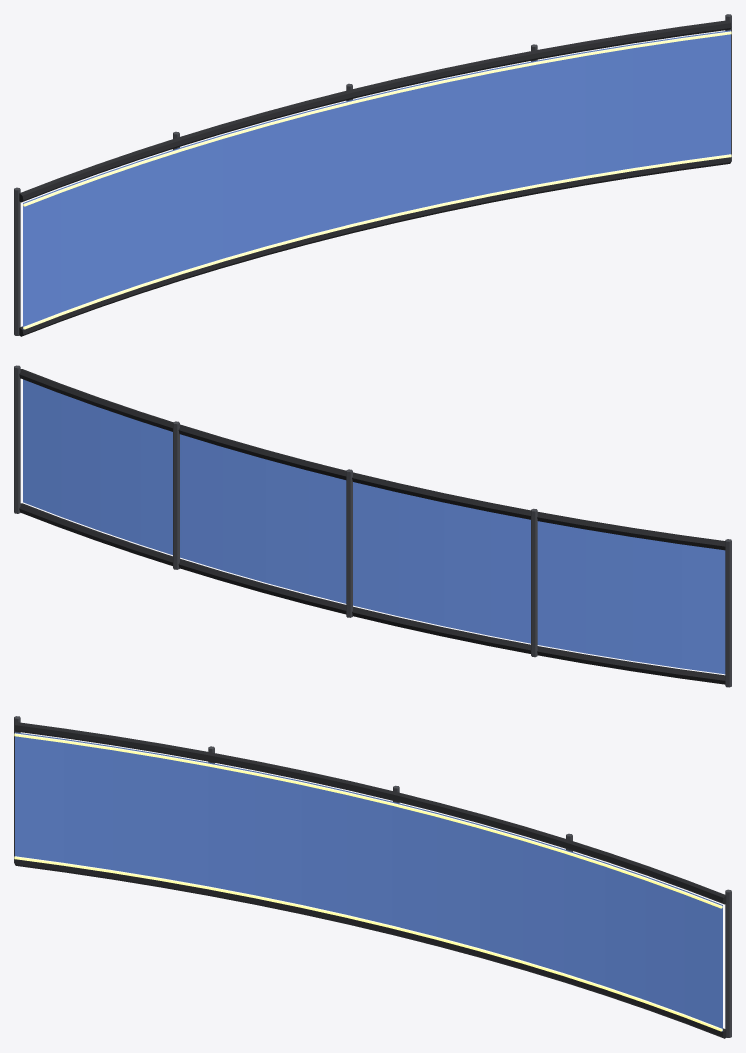
The model's file is Ad_Banner_Curved.glb.
The picture shows the model from 3 angles, top to bottom: view 1: azimuth 30°, elevation 25°; view 2: azimuth 150°, elevation 25°; view 3: azimuth 330°, elevation 25°; orthographic projection.
Parts seen in each view (by area): view 1: Ad_Banner_Curved; view 2: Ad_Banner_Curved; view 3: Ad_Banner_Curved.
Boxes of the visible parts, bbox=[...] form: Ad_Banner_Curved: bbox=[14, 14, 731, 336]; Ad_Banner_Curved: bbox=[14, 365, 731, 687]; Ad_Banner_Curved: bbox=[14, 716, 731, 1038].
Size of the model in its own units: 11.85 by 2.31 by 0.8695.
